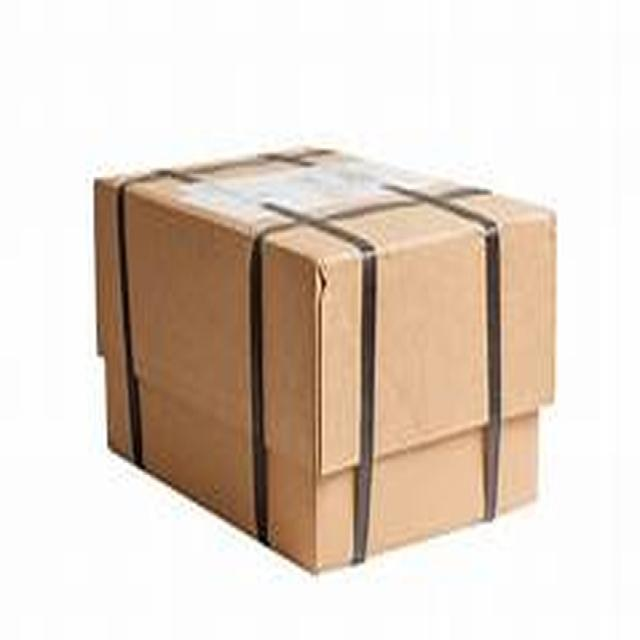box: (71, 116, 574, 598)
